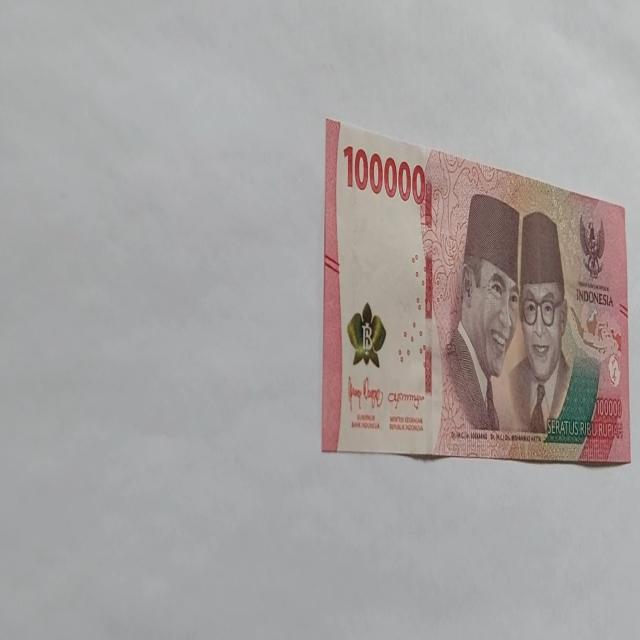seratus ribu rupiah: (321, 117, 631, 464), (433, 191, 521, 453)
